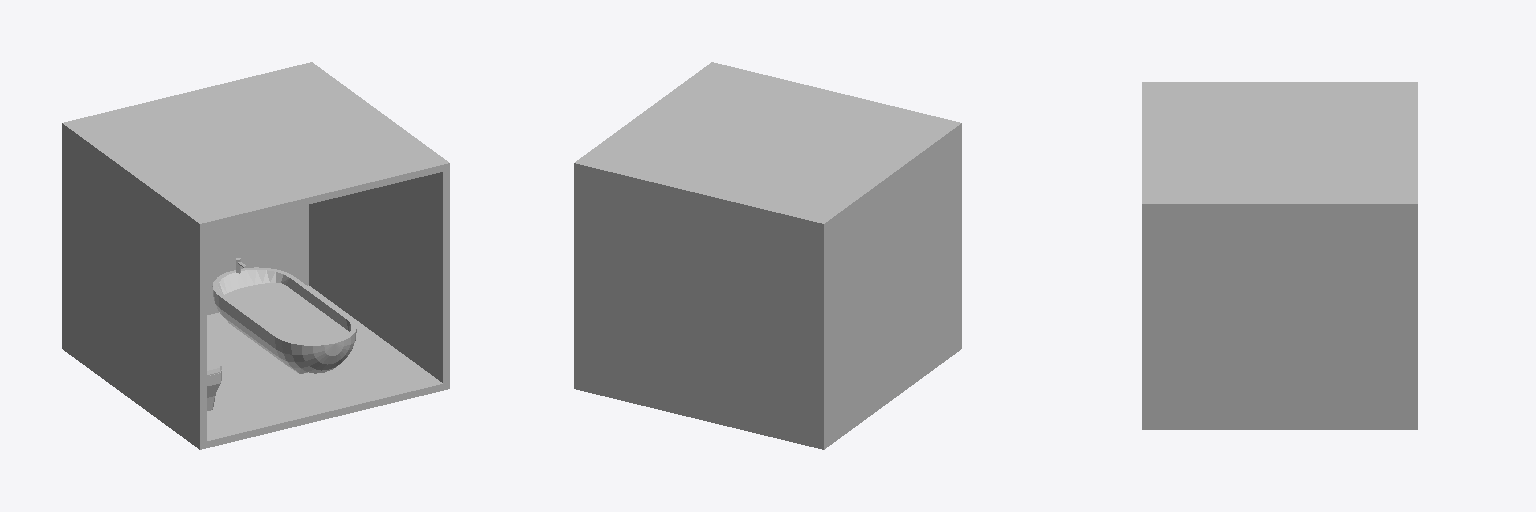
Rendered from Bath.obj.
3 renders of one model, left to right at view 1: azimuth 30°, elevation 25°; view 2: azimuth 150°, elevation 25°; view 3: azimuth 270°, elevation 25°, orthographic.
Visible parts, largest first — view 1: Box001; view 2: Box001; view 3: Box001.
Part boxes in pixels (left/top/right/bottom): Box001: left=62, top=62, right=449, bottom=449; Box001: left=574, top=62, right=961, bottom=449; Box001: left=1142, top=82, right=1417, bottom=429.
Bounding box in the file's own units: 52.34 × 45.18 × 50.07.